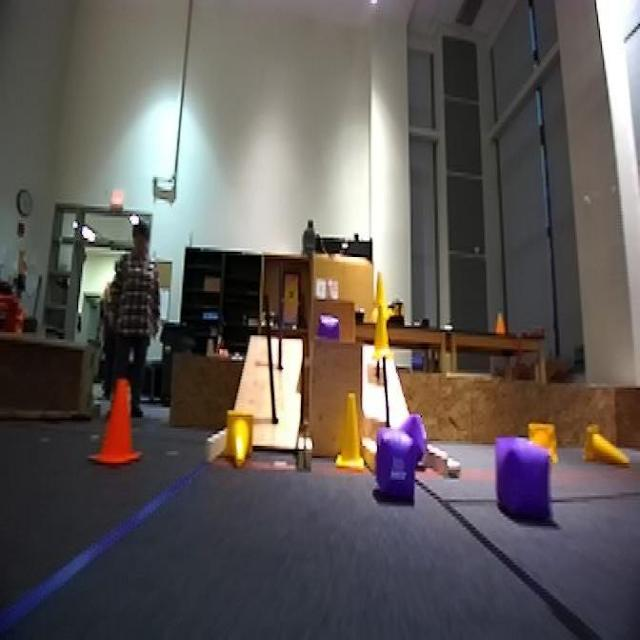frc_cone: (336, 386, 378, 474), (584, 427, 633, 473), (225, 410, 252, 470), (525, 415, 556, 465), (370, 308, 395, 364), (375, 262, 389, 312)
frc_cube: (493, 438, 558, 524), (366, 427, 413, 494), (392, 417, 425, 463), (316, 312, 341, 342)
